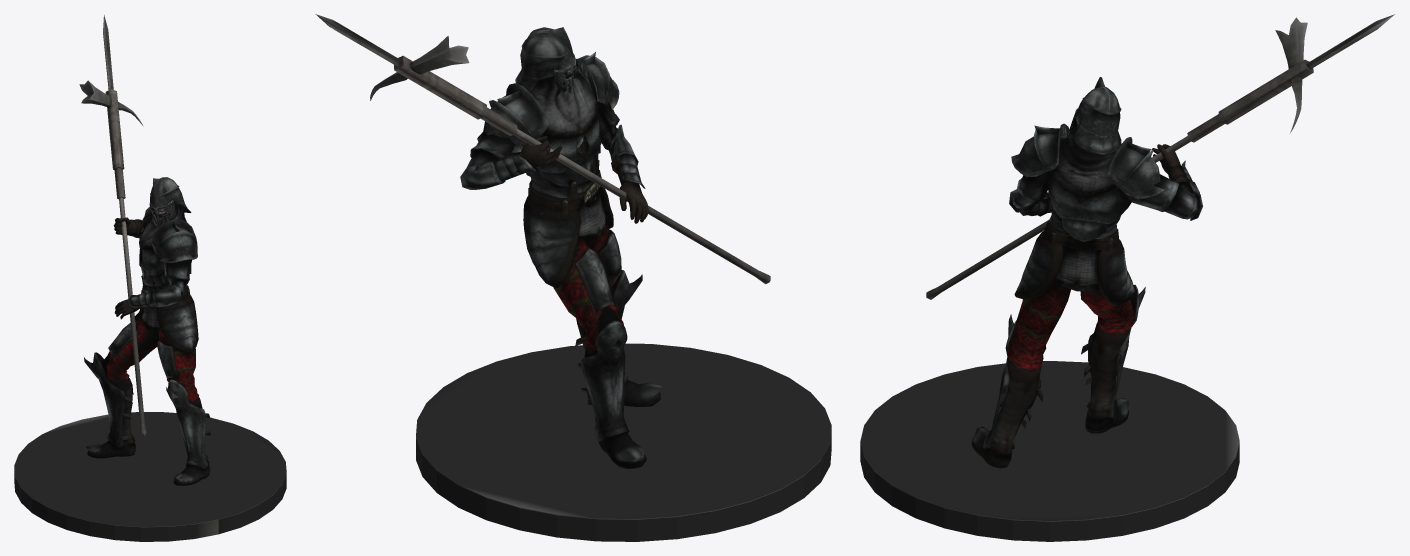
The picture shows the model from 3 angles, left to right: view 1: azimuth 30°, elevation 25°; view 2: azimuth 150°, elevation 25°; view 3: azimuth 270°, elevation 25°; orthographic projection. The views are drawn at different scales.
Visible parts, largest first — view 1: lucernehammer2.smd; view 2: lucernehammer2.smd; view 3: lucernehammer2.smd.
Part boxes in pixels (x1,y1,x2,y2): lucernehammer2.smd: (14, 15, 286, 541); lucernehammer2.smd: (315, 14, 831, 541); lucernehammer2.smd: (860, 14, 1394, 541).
Size of the model in its own units: 1.49 by 2.16 by 2.1.
Materials: 1 (1 with a texture image).
